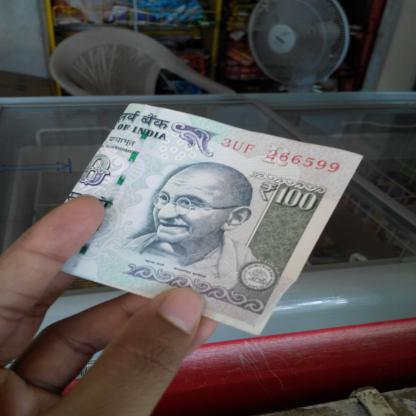Old100Front: (60, 102, 365, 337)
